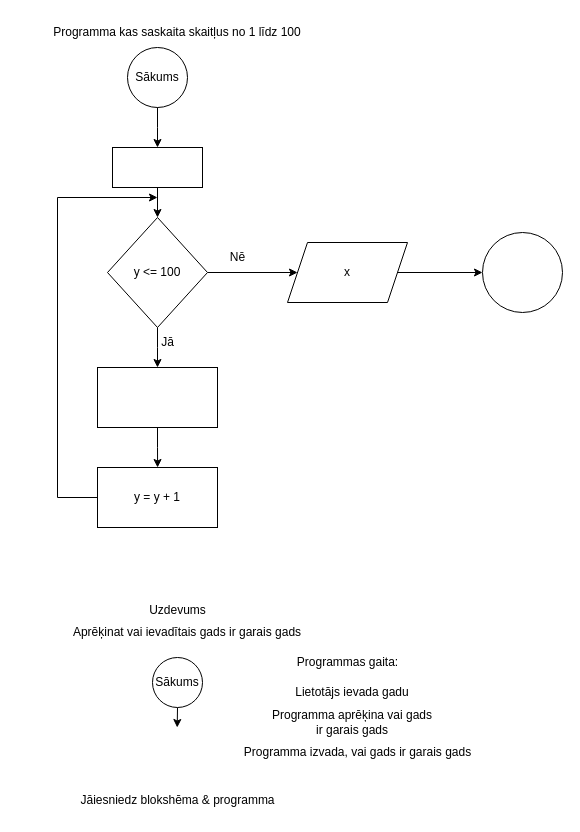
Some shapes in this 580 by 832 pixel diagram are drawn without their labels. The centre of each missing label's shape, as x and y in pixels:
"Beigas" belongs at [522,272].
"x = 0 y = 0" belongs at [157,167].
"x = y + x" belongs at [157,397].
